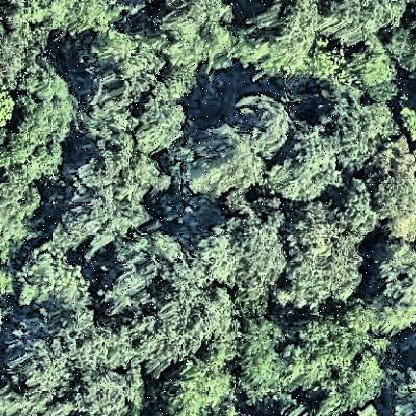tree-top: (1, 37, 74, 251), (1, 310, 143, 416), (239, 318, 383, 416), (104, 237, 214, 339), (281, 196, 360, 314), (68, 150, 166, 244), (87, 70, 193, 156), (202, 205, 293, 299), (175, 121, 267, 200), (321, 79, 399, 157), (19, 238, 99, 311), (241, 1, 315, 77), (159, 1, 237, 71), (271, 129, 343, 201), (2, 2, 124, 44), (157, 351, 237, 413), (367, 137, 416, 238), (370, 240, 416, 308)
